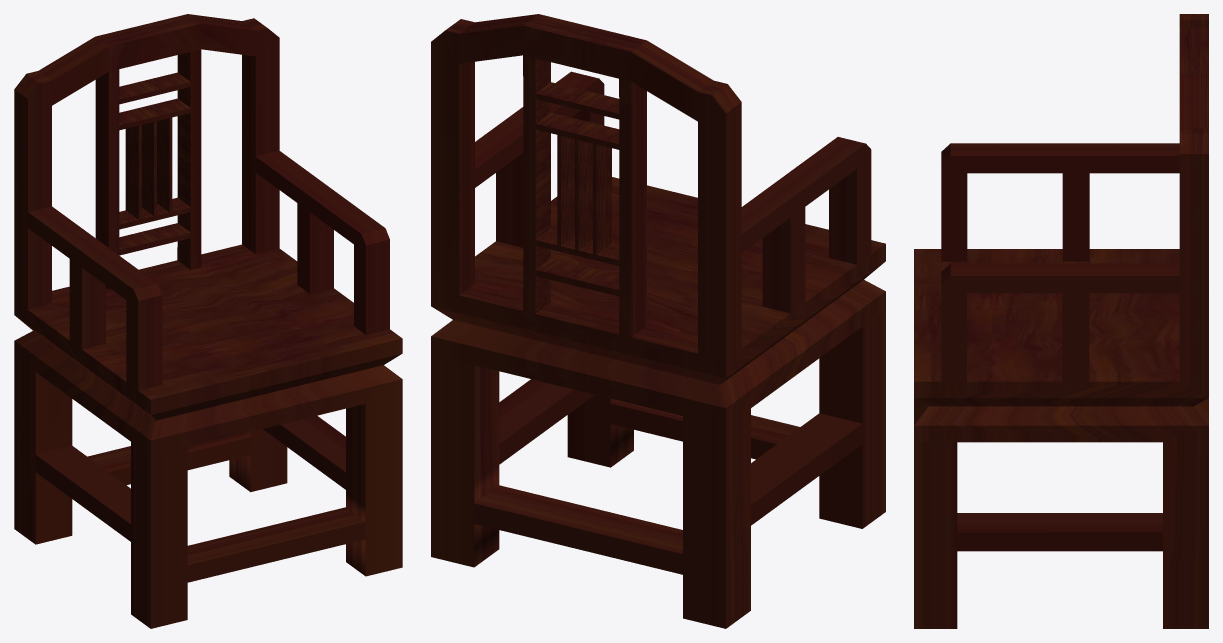
File: Chair3.fbx
3 views of the same model, side by side, from view 1: azimuth 30°, elevation 25°; view 2: azimuth 150°, elevation 25°; view 3: azimuth 270°, elevation 25° (orthographic). The views are drawn at different scales.
Visible parts, largest first — view 1: Chair3; view 2: Chair3; view 3: Chair3.
Part boxes in pixels (left/top/right/bottom): Chair3: left=14, top=14, right=402, bottom=628; Chair3: left=431, top=14, right=885, bottom=628; Chair3: left=914, top=14, right=1208, bottom=628.
Size of the model in its own units: 0.495 by 0.8884 by 0.4647.
Materials: 1 (1 with a texture image).
